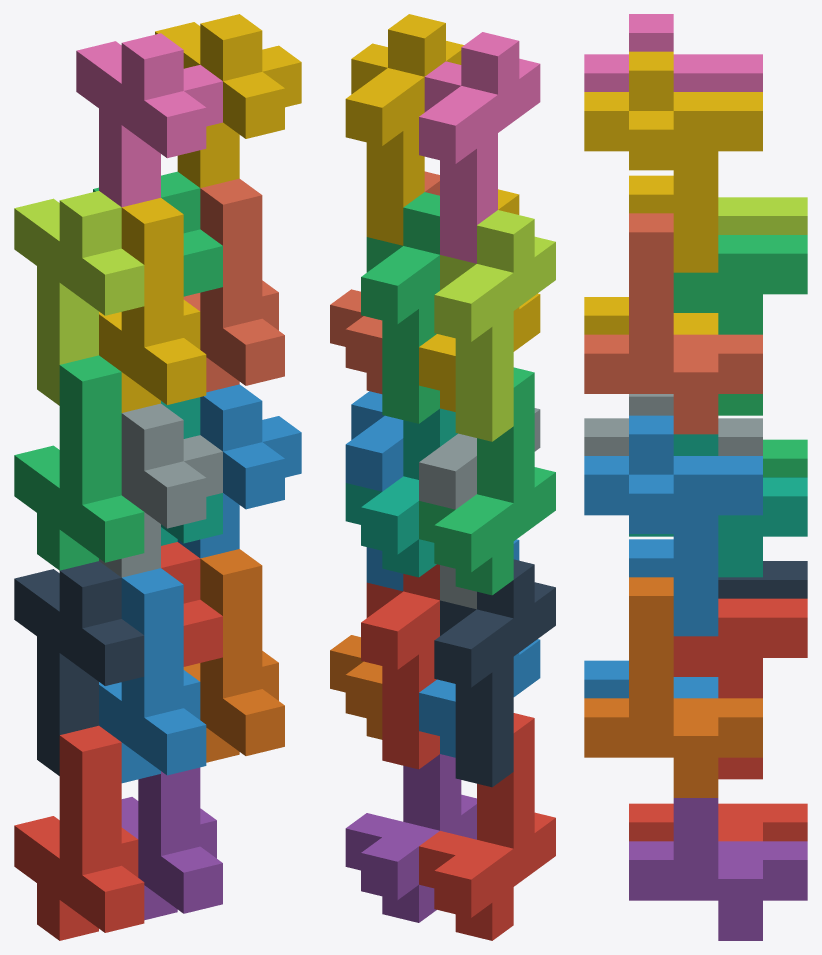
The model's file is tiling.obj.
3 views of the same model, side by side, from view 1: azimuth 30°, elevation 25°; view 2: azimuth 150°, elevation 25°; view 3: azimuth 270°, elevation 25° (orthographic). The views are drawn at different scales.
Parts seen in each view (by area): view 1: copy_1_domain_1, copy_1_domain_3, copy_2_domain_4, copy_2_domain_3, copy_2_domain_1, copy_1_domain_4, copy_1_domain_2, copy_1_domain_6, copy_1_domain_8, copy_2_domain_8, copy_1_domain_5, copy_2_domain_2 (+4 smaller); view 2: copy_2_domain_3, copy_2_domain_4, copy_2_domain_1, copy_1_domain_1, copy_2_domain_8, copy_1_domain_3, copy_2_domain_7, copy_1_domain_5, copy_2_domain_5, copy_1_domain_7, copy_2_domain_6, copy_2_domain_2 (+4 smaller); view 3: copy_2_domain_8, copy_2_domain_6, copy_1_domain_8, copy_1_domain_6, copy_1_domain_5, copy_2_domain_5, copy_2_domain_7, copy_2_domain_4, copy_1_domain_7, copy_1_domain_1, copy_1_domain_2, copy_1_domain_4 (+4 smaller).
Boxes of the visible parts, <box> form: copy_1_domain_1: <box>14,725,144,940</box>; copy_1_domain_3: <box>14,355,144,570</box>; copy_2_domain_4: <box>76,33,222,207</box>; copy_2_domain_3: <box>14,191,144,405</box>; copy_2_domain_1: <box>14,561,144,775</box>; copy_1_domain_4: <box>99,198,206,412</box>; copy_1_domain_2: <box>99,568,206,783</box>; copy_1_domain_6: <box>183,549,284,762</box>; copy_1_domain_8: <box>183,178,284,392</box>; copy_2_domain_8: <box>155,14,301,187</box>; copy_1_domain_5: <box>121,767,222,920</box>; copy_2_domain_2: <box>99,403,222,577</box>; copy_2_domain_3: <box>434,210,555,441</box>; copy_2_domain_4: <box>419,32,540,263</box>; copy_2_domain_1: <box>434,559,555,787</box>; copy_1_domain_1: <box>419,713,555,940</box>; copy_2_domain_8: <box>345,14,463,245</box>; copy_1_domain_3: <box>419,367,555,595</box>; copy_2_domain_7: <box>361,192,439,423</box>; copy_1_domain_5: <box>345,754,476,922</box>; copy_2_domain_5: <box>361,564,439,769</box>; copy_1_domain_7: <box>345,408,457,577</box>; copy_2_domain_6: <box>345,391,403,591</box>; copy_2_domain_2: <box>419,408,540,609</box>; copy_2_domain_8: <box>584,51,762,272</box>; copy_2_domain_6: <box>584,415,762,636</box>; copy_1_domain_8: <box>584,213,762,434</box>; copy_1_domain_6: <box>584,577,762,797</box>; copy_1_domain_5: <box>629,798,807,940</box>; copy_2_domain_5: <box>673,598,807,779</box>; copy_2_domain_7: <box>673,235,807,415</box>; copy_2_domain_4: <box>584,14,762,91</box>; copy_1_domain_7: <box>629,434,807,577</box>; copy_1_domain_1: <box>629,803,807,841</box>; copy_1_domain_2: <box>584,539,718,698</box>; copy_1_domain_4: <box>584,175,718,334</box>.
Size of the model in its own units: 5 by 22 by 5.
